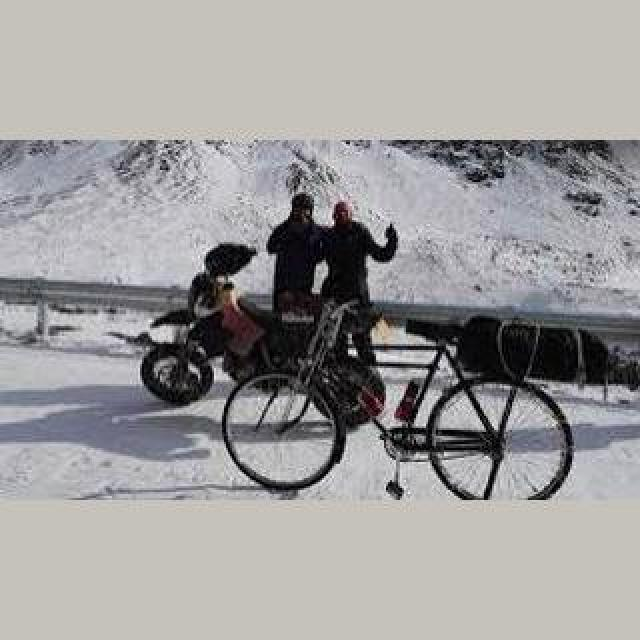MC-Bike: (312, 200, 398, 418), (186, 244, 272, 386), (266, 192, 328, 366)
Person: (218, 294, 576, 500)
